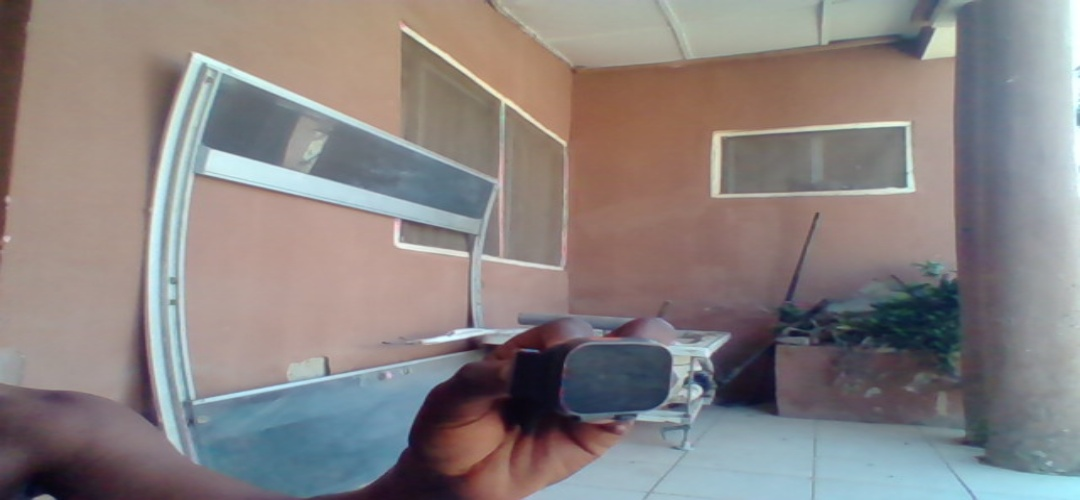smart_watch: (530, 337, 676, 421)
